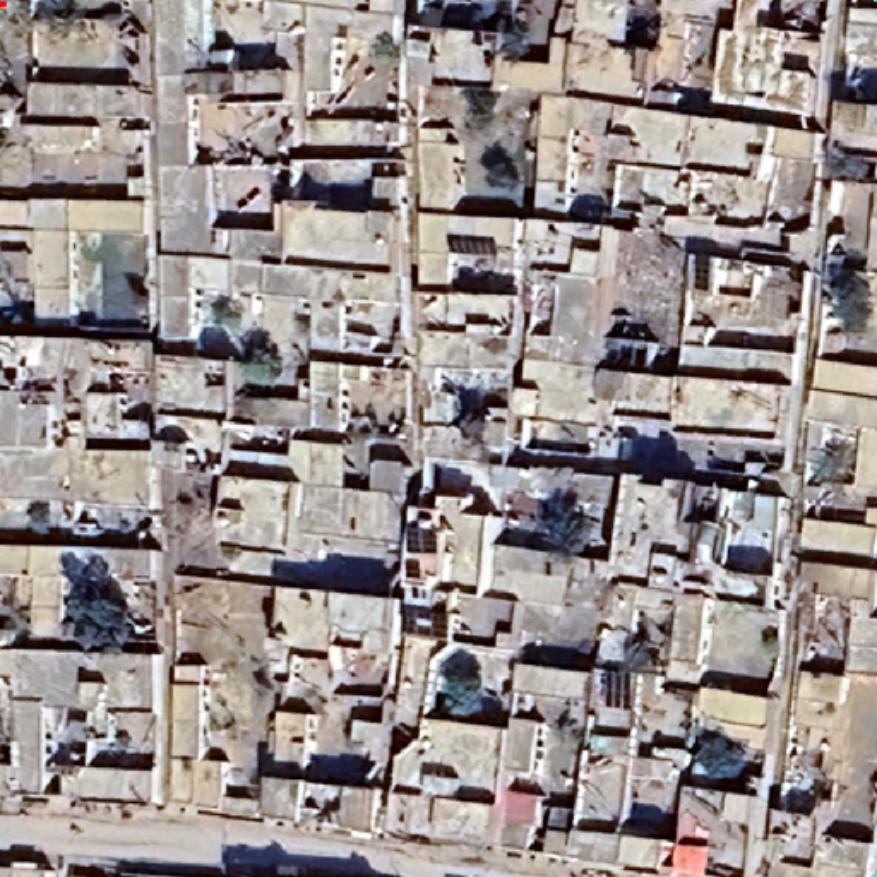Solarpanel: (396, 598, 452, 648), (402, 522, 440, 556), (447, 235, 502, 258), (608, 664, 631, 707)
